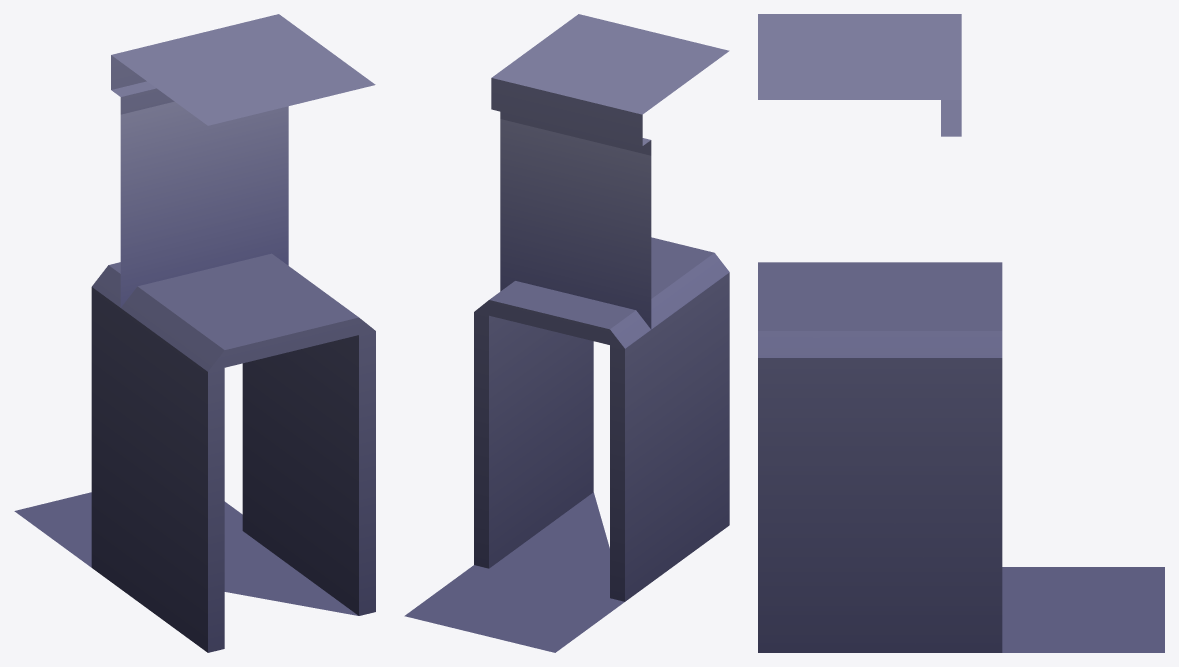
File: structure-doorway.glb
3 views of the same model, side by side, from view 1: azimuth 30°, elevation 25°; view 2: azimuth 150°, elevation 25°; view 3: azimuth 270°, elevation 25° (orthographic). The views are drawn at different scales.
Parts seen in each view (by area): view 1: structure-doorway; view 2: structure-doorway; view 3: structure-doorway.
Boxes of the visible parts, x1,y1,x2,y2 form: structure-doorway: (14,14,375,652); structure-doorway: (404,14,729,652); structure-doorway: (758,14,1164,652).
Size of the model in its own units: 0.9999 by 3 by 2.
1 material, 1 textured.
